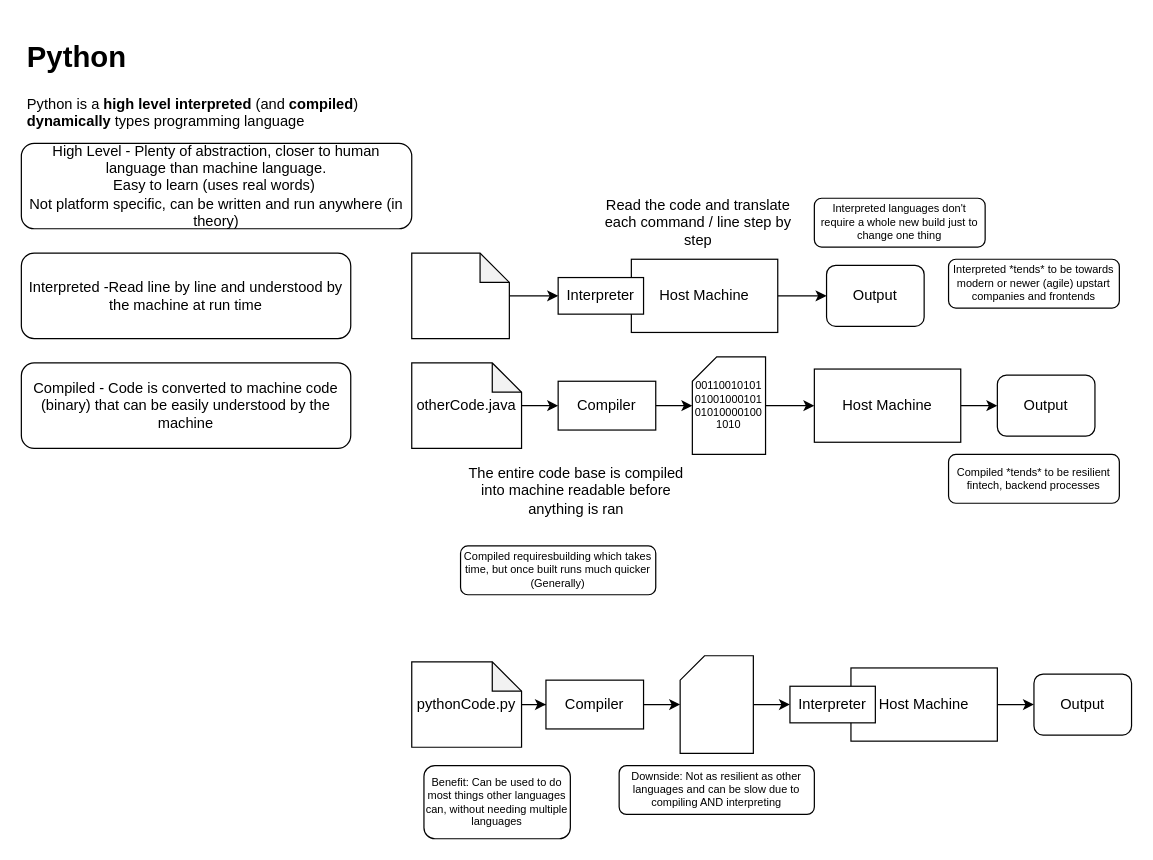
Some shapes in this 1153 by 860 pixel diagram are drawn without their labels. The centre of each missing label's shape, as x and y in pixels:
coolCode.js: [460,295]
pycode (lower level python code): [716,704]
